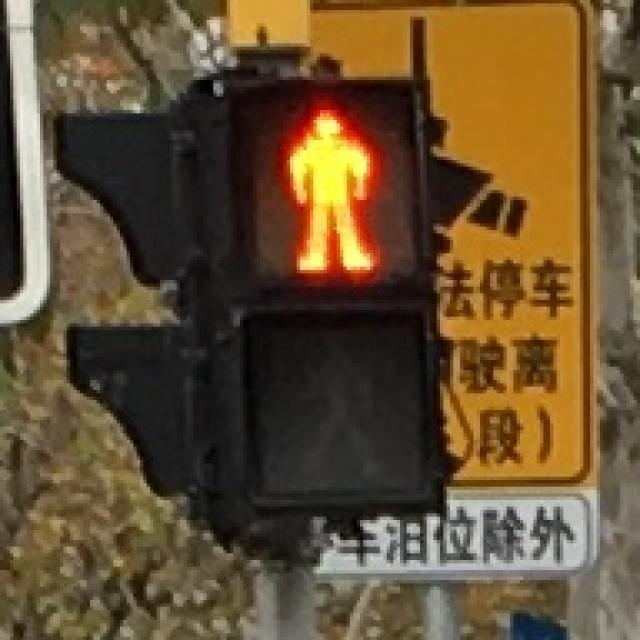red_light: (244, 86, 404, 286)
